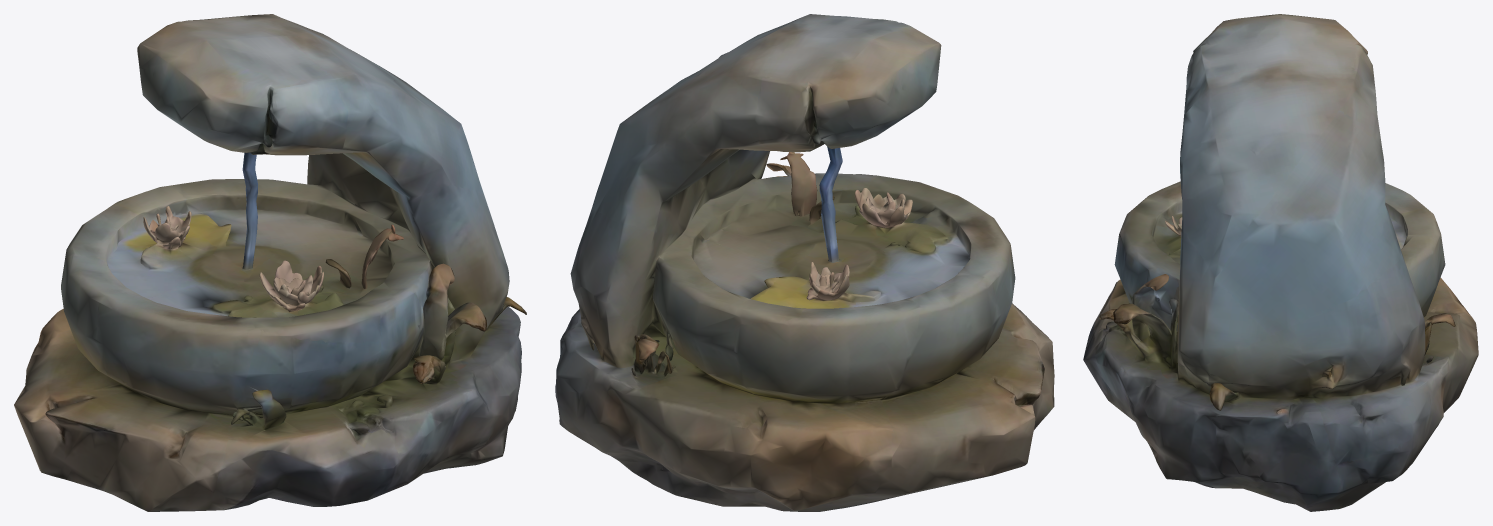
Rendered from water_nourish_t2.glb.
The picture shows the model from 3 angles, left to right: view 1: azimuth 30°, elevation 25°; view 2: azimuth 150°, elevation 25°; view 3: azimuth 270°, elevation 25°; orthographic projection. The views are drawn at different scales.
Parts seen in each view (by area): view 1: tripo_node_1a7cad03-61b4-4b56-9b8b-16b8c191e9ef; view 2: tripo_node_1a7cad03-61b4-4b56-9b8b-16b8c191e9ef; view 3: tripo_node_1a7cad03-61b4-4b56-9b8b-16b8c191e9ef.
Boxes of the visible parts, <box> form: tripo_node_1a7cad03-61b4-4b56-9b8b-16b8c191e9ef: <box>14,14,526,511</box>; tripo_node_1a7cad03-61b4-4b56-9b8b-16b8c191e9ef: <box>555,14,1054,511</box>; tripo_node_1a7cad03-61b4-4b56-9b8b-16b8c191e9ef: <box>1083,14,1478,511</box>.
Bounding box in the file's own units: 0.9918 × 0.9999 × 0.8646.
Materials: 1 (1 with a texture image).
